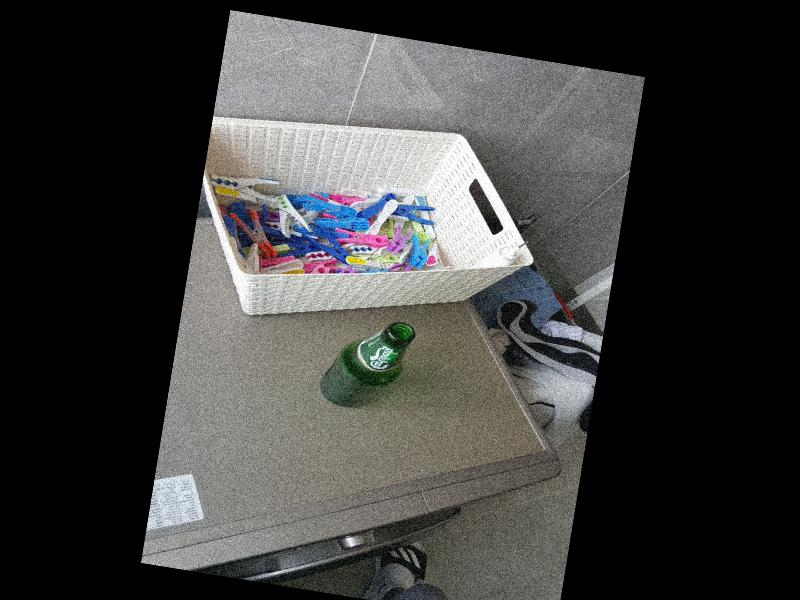Beer: (318, 313, 417, 417)
